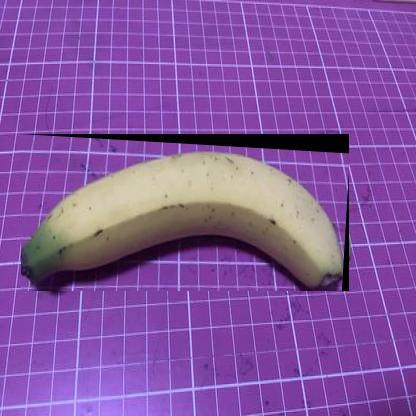bananarotation: (21, 134, 350, 292)
